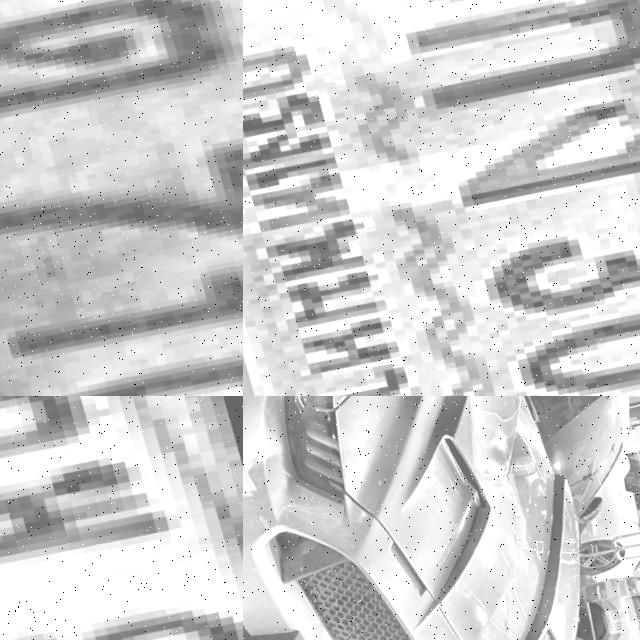license-plate: (243, 0, 640, 396), (0, 0, 243, 396), (0, 396, 243, 640)
